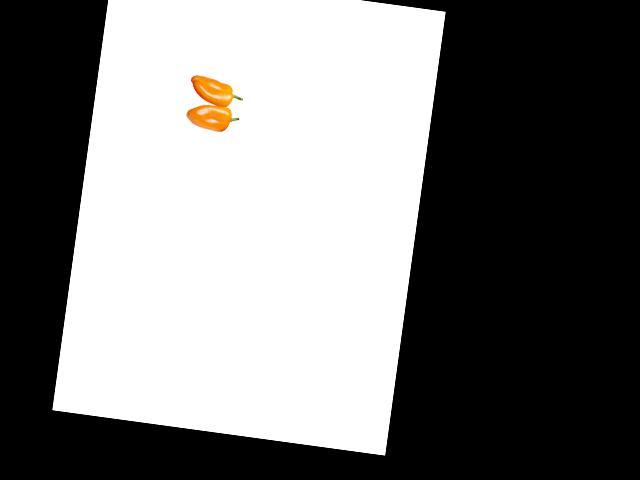bell_pepper: (173, 99, 241, 139)
